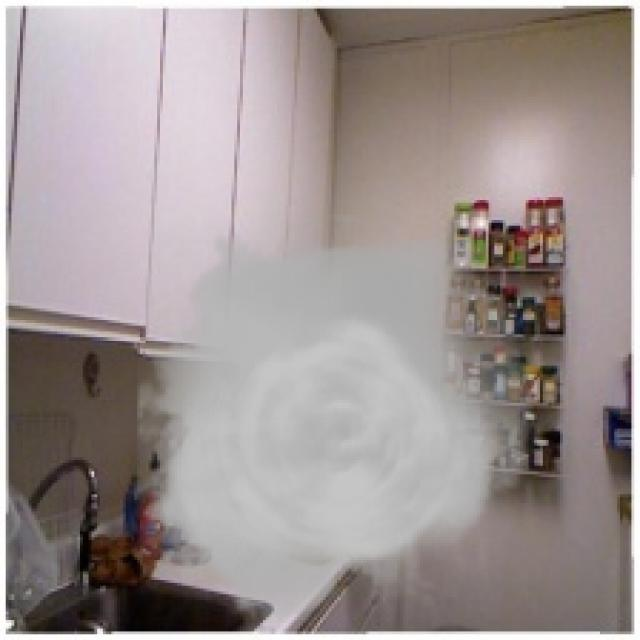smoke: (137, 215, 534, 634)
